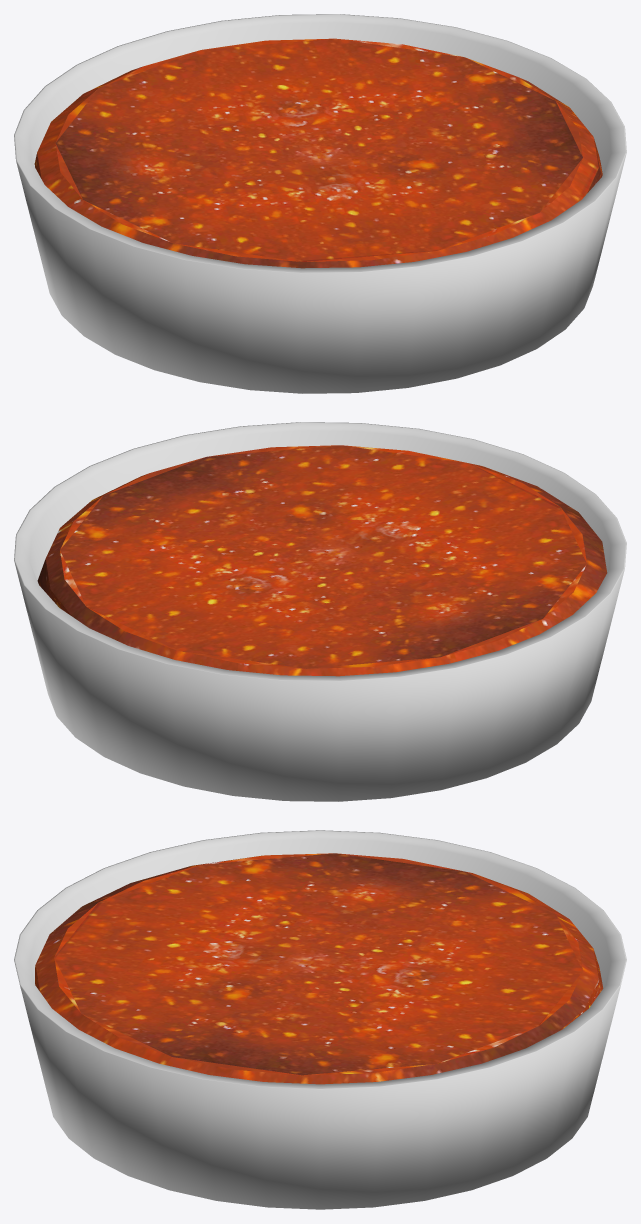
The model's file is curry.glb.
3 renders of one model, top to bottom at view 1: azimuth 30°, elevation 25°; view 2: azimuth 150°, elevation 25°; view 3: azimuth 270°, elevation 25°, orthographic.
Visible parts, largest first — view 1: curry; view 2: curry; view 3: curry.
Boxes of the visible parts, left/top/right/bottom form: curry: left=14, top=14, right=626, bottom=393; curry: left=14, top=422, right=626, bottom=801; curry: left=14, top=830, right=626, bottom=1209.
Bounding box in the file's own units: 1.63 × 0.5461 × 1.63.
Materials: 2 (1 with a texture image).
